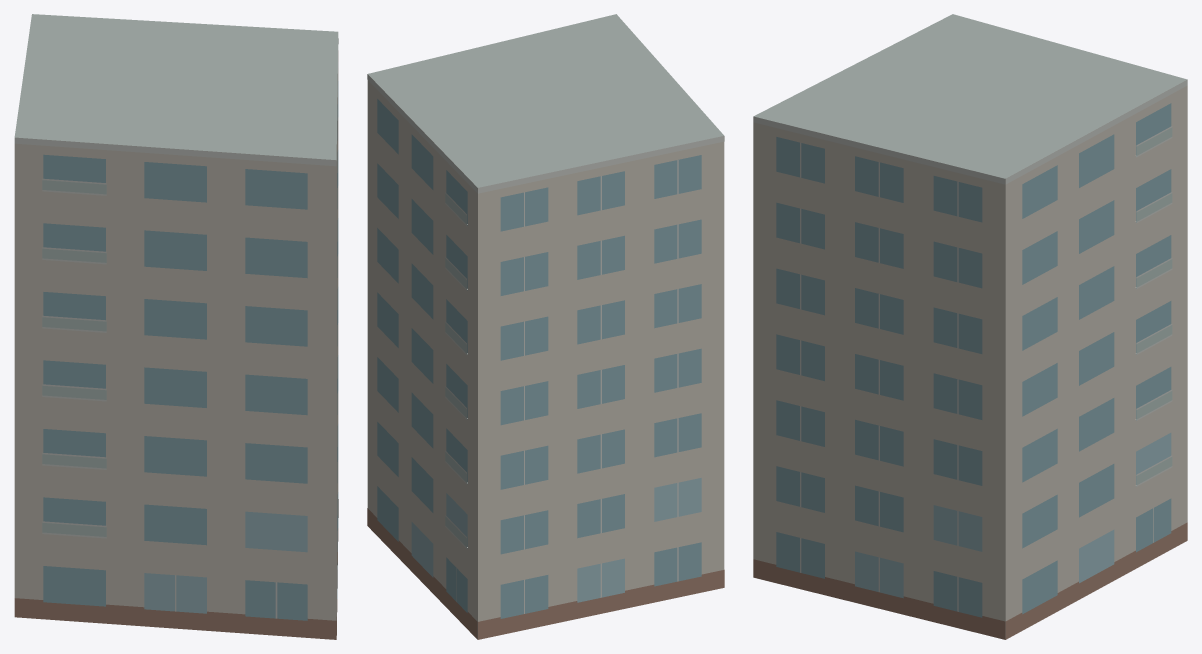
The model's file is survey-upis-32725951.glb.
3 renders of one model, left to right at view 1: azimuth 30°, elevation 25°; view 2: azimuth 150°, elevation 25°; view 3: azimuth 270°, elevation 25°, orthographic. The views are drawn at different scales.
Parts seen in each view (by area): view 1: survey-upis-32725951.tmp; view 2: survey-upis-32725951.tmp; view 3: survey-upis-32725951.tmp.
Part boxes in pixels (bbox=[...]): survey-upis-32725951.tmp: bbox=[14, 14, 338, 639]; survey-upis-32725951.tmp: bbox=[367, 14, 724, 639]; survey-upis-32725951.tmp: bbox=[753, 14, 1187, 639].
Size of the model in its own units: 14.65 by 19.1 by 16.31.
